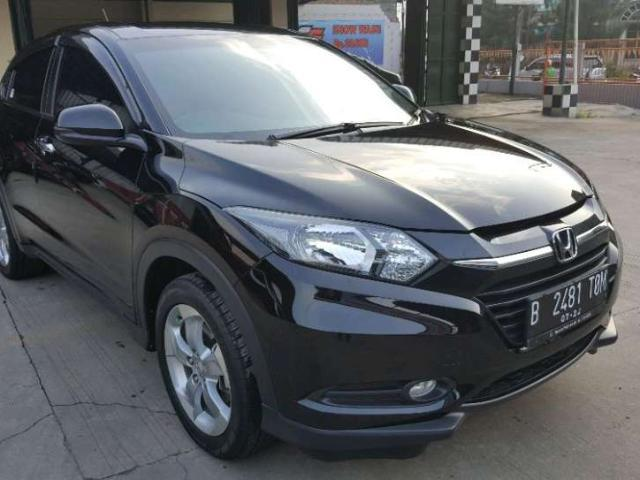plate: (525, 265, 611, 348)
